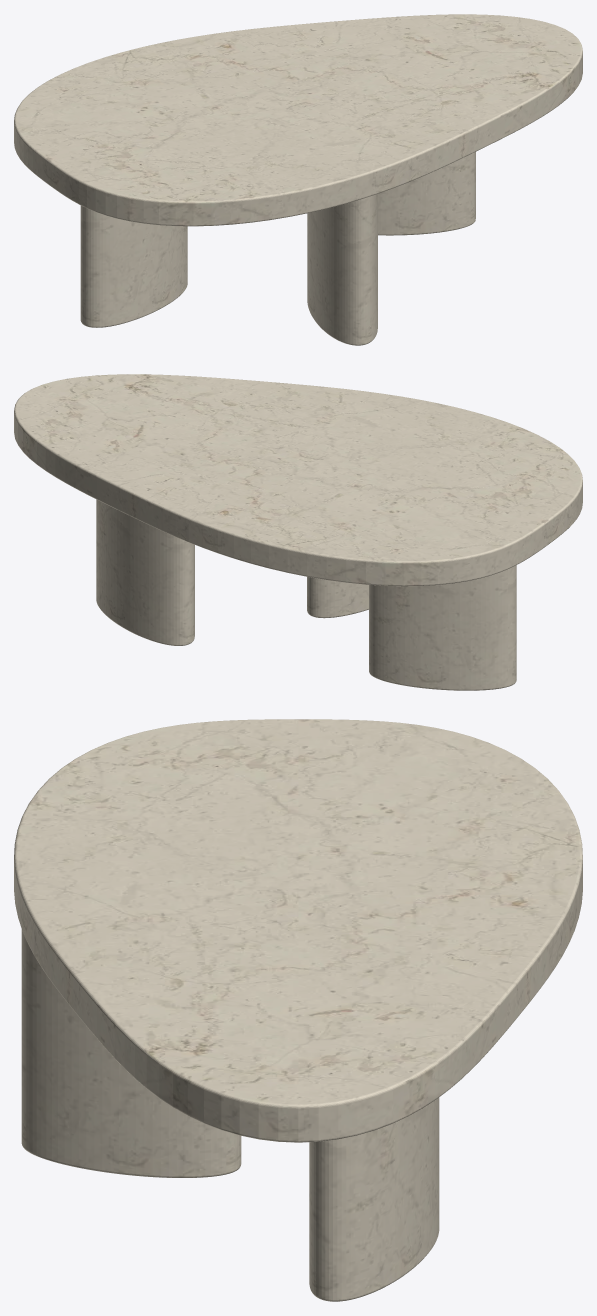
Rendered from lounge-travertine-table.glb.
3 renders of one model, top to bottom at view 1: azimuth 30°, elevation 25°; view 2: azimuth 150°, elevation 25°; view 3: azimuth 270°, elevation 25°, orthographic. The views are drawn at different scales.
Visible parts, largest first — view 1: stone_surfaces; view 2: stone_surfaces; view 3: stone_surfaces.
Part boxes in pixels (x1,y1,x2,y2): stone_surfaces: (14, 14, 582, 345); stone_surfaces: (14, 374, 582, 690); stone_surfaces: (14, 719, 582, 1301).
Bounding box in the file's own units: 1.21 × 0.3801 × 0.7495.
1 material, 1 textured.
